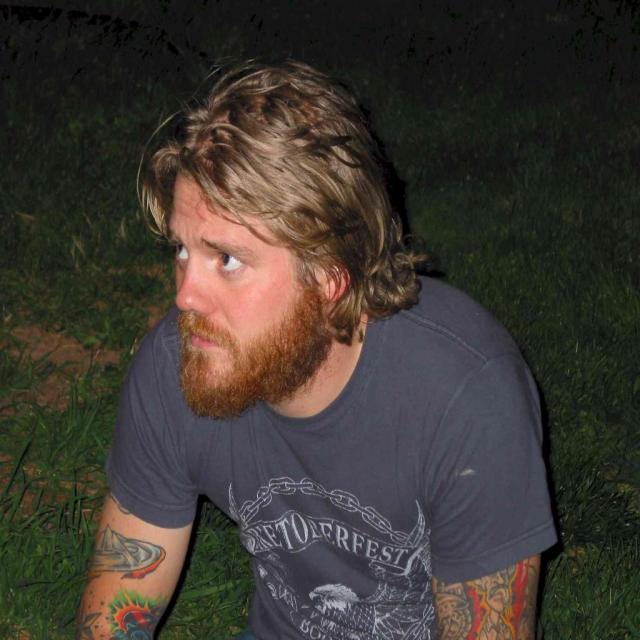nomask: (174, 176, 320, 401)
